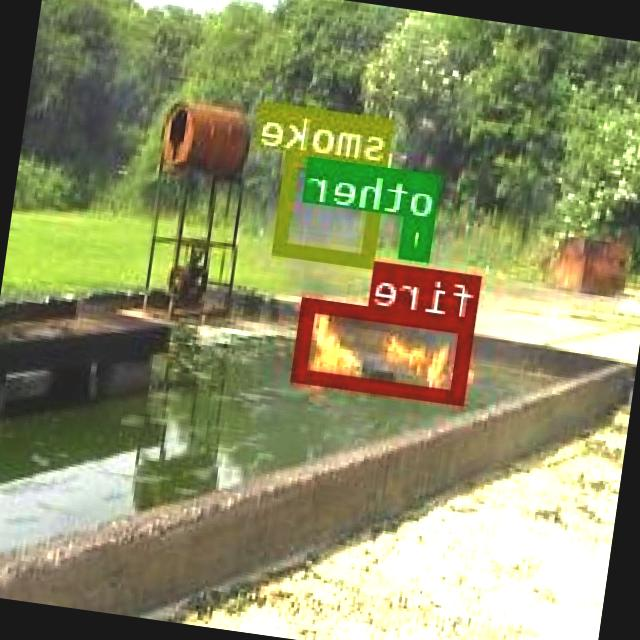fire: (297, 297, 478, 403)
smoke: (275, 151, 390, 265)
